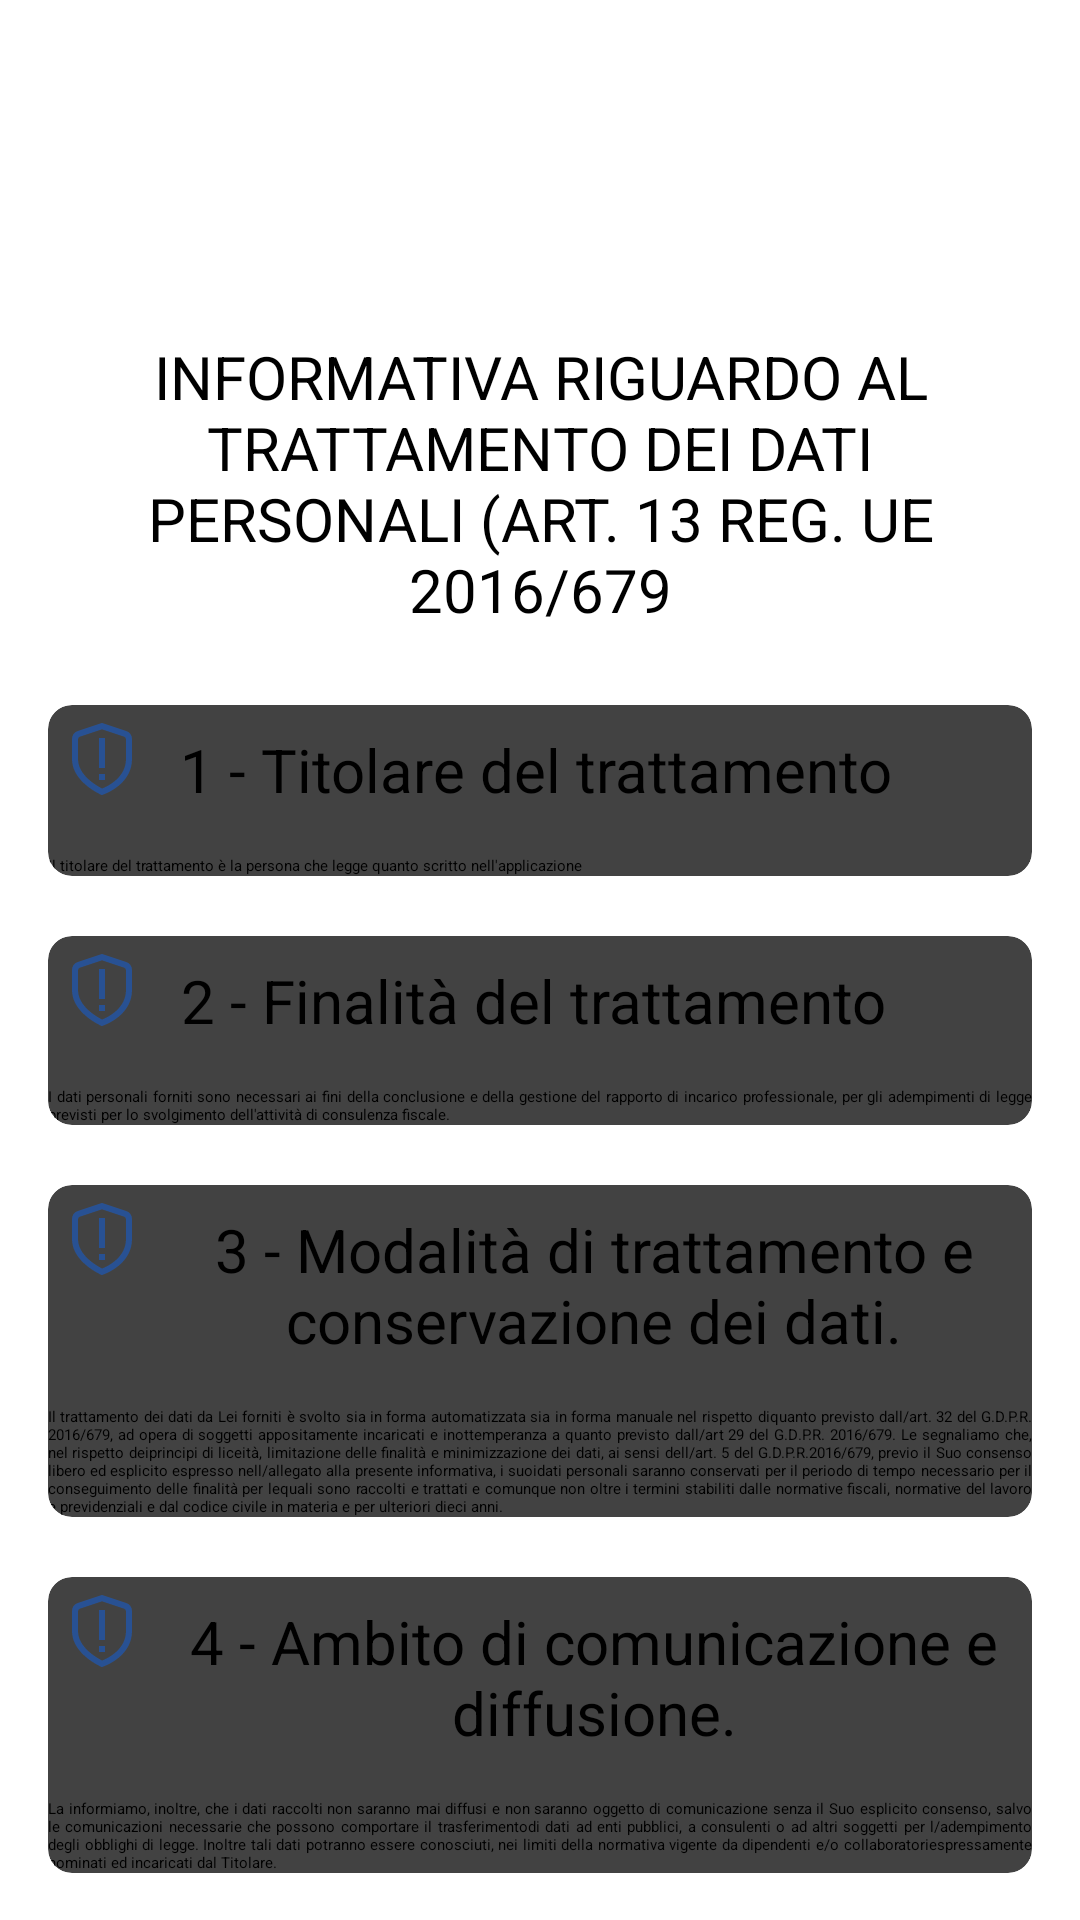

Icons on this 1080px×1920px Android screen, each with the point to tap as (x=x, y=y):
shield exclamation: (x=102, y=759), (x=102, y=990), (x=102, y=1239), (x=102, y=1631)
